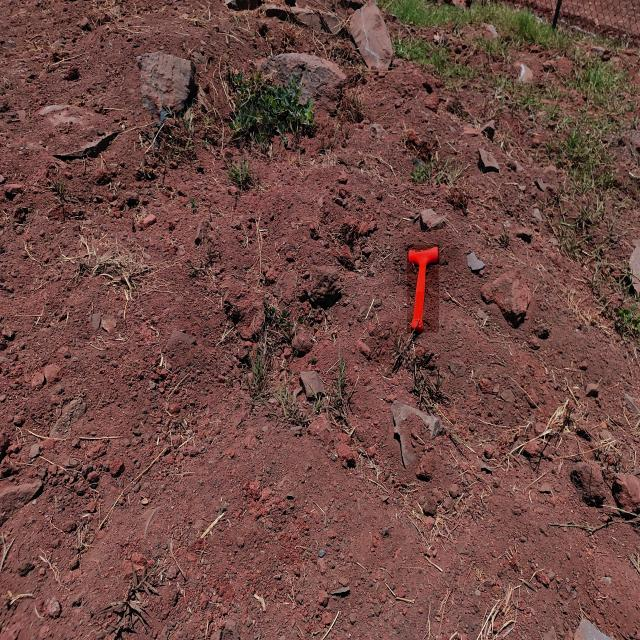Orange_hammer: (407, 245, 439, 333)
